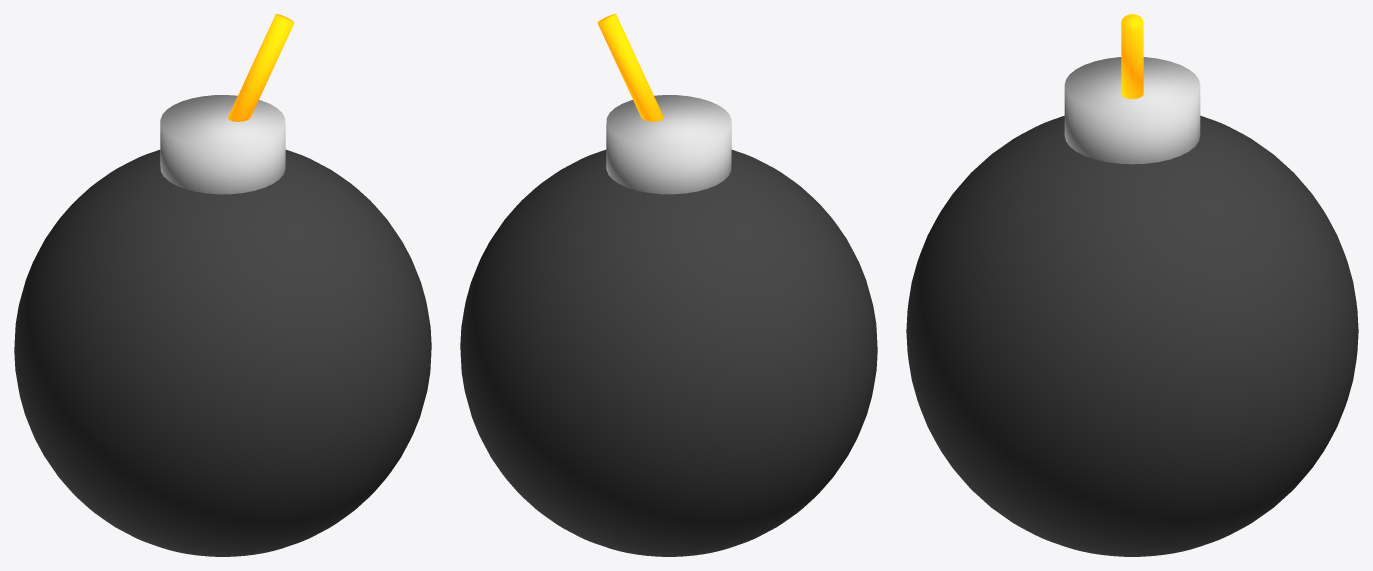
Rendered from malware_blackmail.glb.
3 renders of one model, left to right at view 1: azimuth 30°, elevation 25°; view 2: azimuth 150°, elevation 25°; view 3: azimuth 270°, elevation 25°, orthographic. The views are drawn at different scales.
Parts seen in each view (by area): view 1: Sphere; view 2: Sphere; view 3: Sphere.
Boxes of the visible parts, x1,y1,x2,y2 form: Sphere: [14, 14, 431, 556]; Sphere: [460, 14, 877, 556]; Sphere: [906, 14, 1358, 556].
Size of the model in its own units: 2 by 2.69 by 2.
